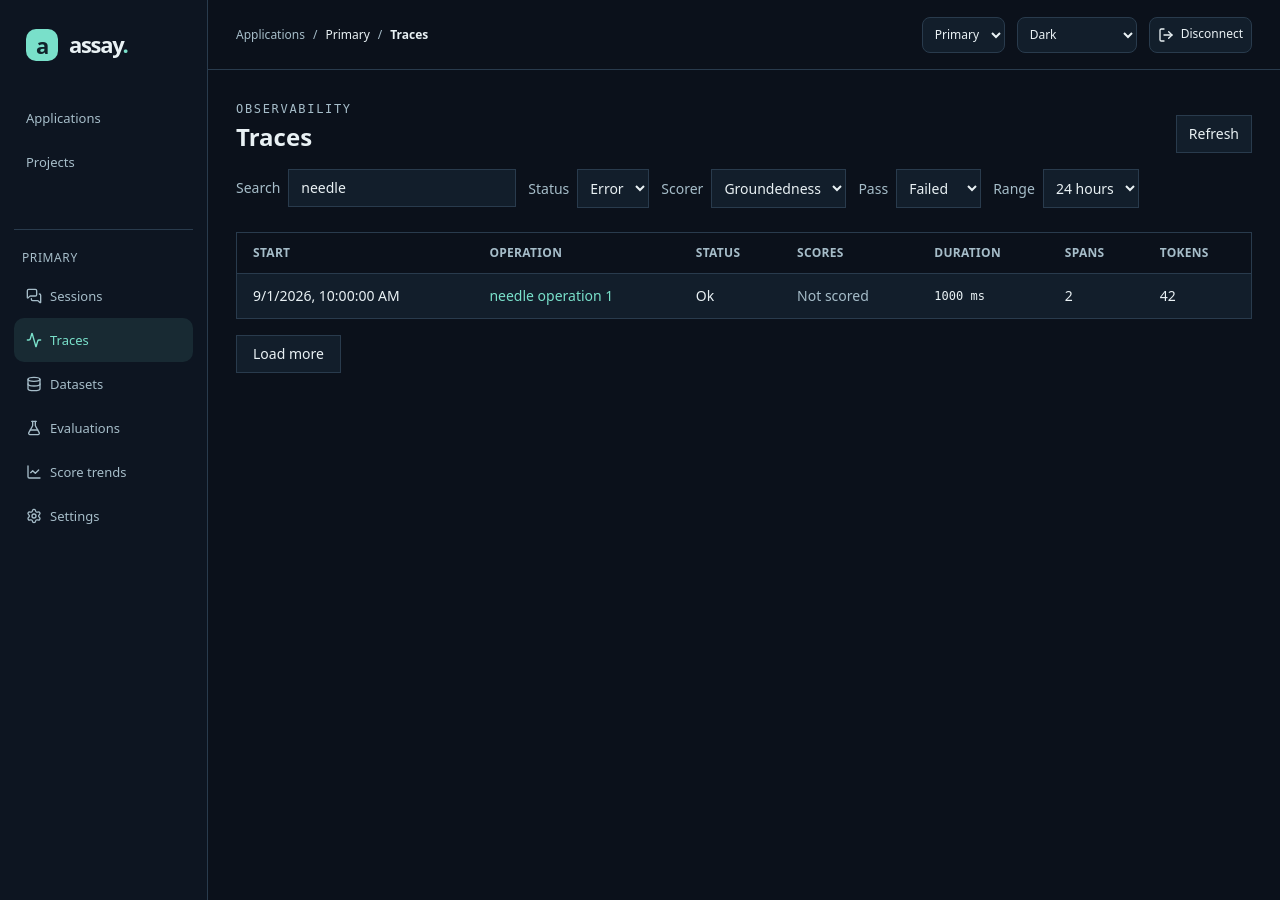
it: keeps filters on every page and resets results after a search change
The width and height of the screenshot is (1280, 900).
Expected: the link "needle operation 1" is shown, [489,286,613,305]
Click the button "Load more".
click(288, 354)  # box [236,335,341,373]
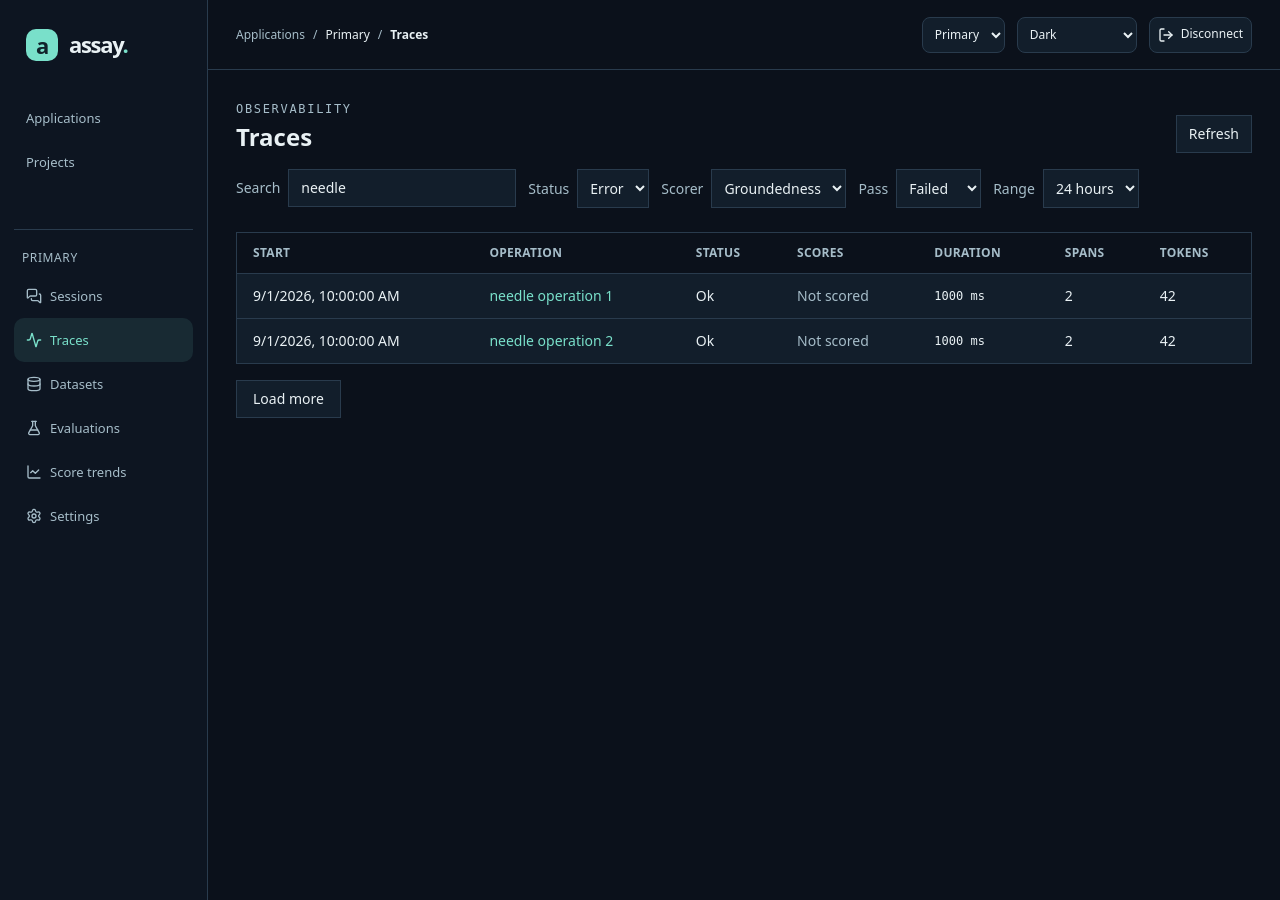
Now the link "needle operation 2" is shown, box [489,331,613,350]
Click the button "Load more".
click(288, 399)  # box [236,380,341,418]
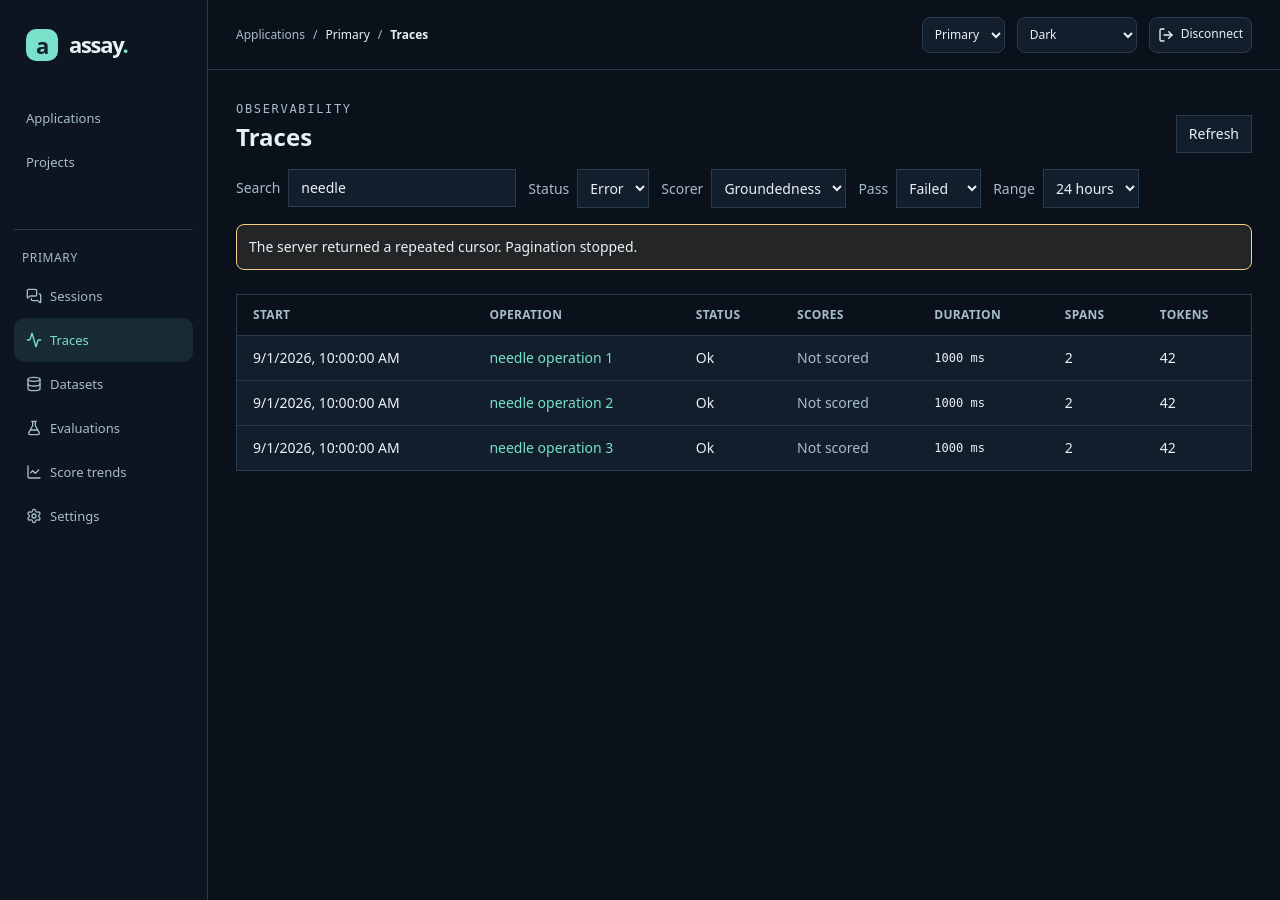
Now the link "needle operation 3" is shown, box [489,438,613,457]
Now the message shows "repeated cursor", box [249,237,637,256]
Clear the field labelled "Search" at [402, 188], box [288,169,516,207]
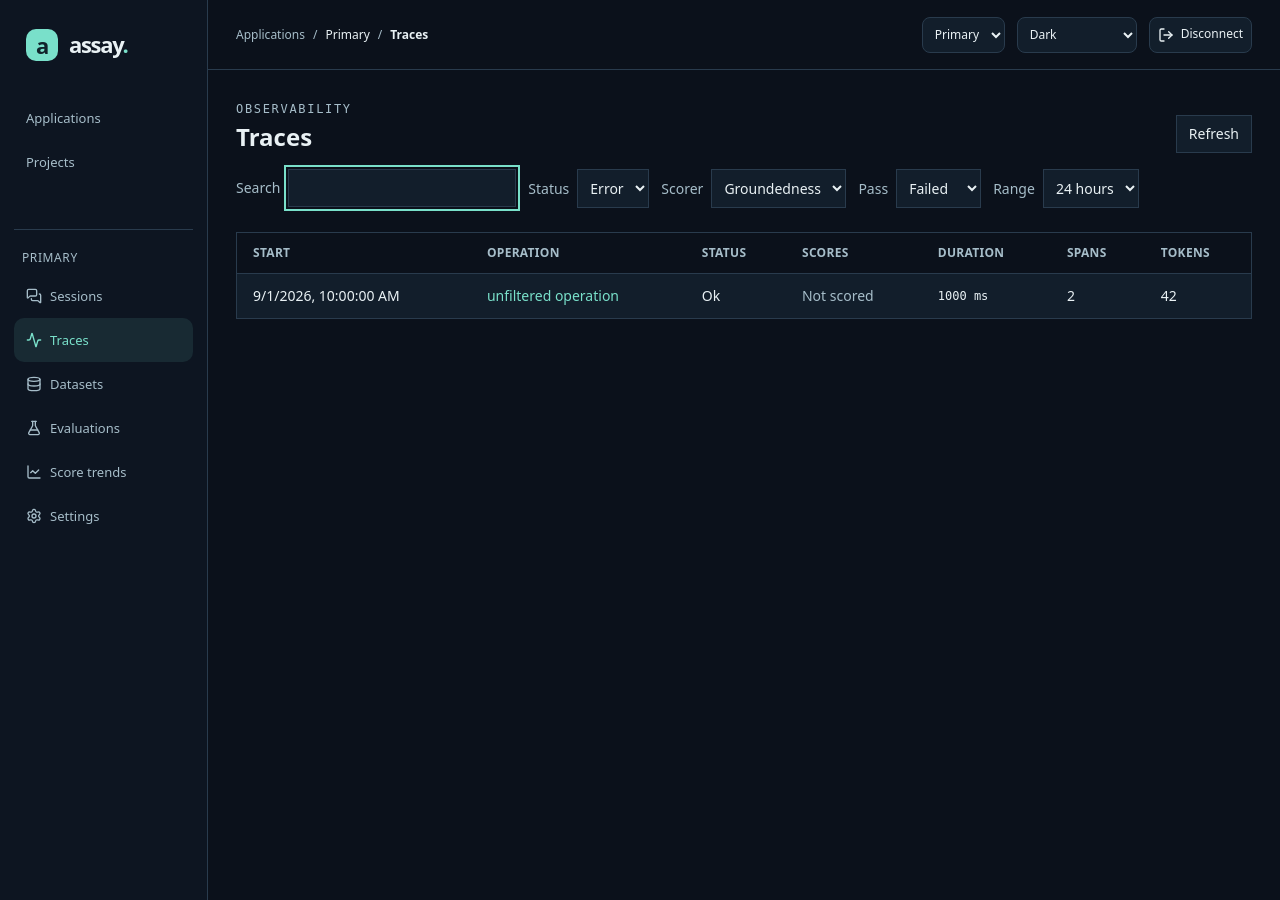
Now the link "unfiltered operation" is shown, box [487,286,619,305]
Now the link "needle operation 1" is gone
Now the link "needle operation 2" is gone
